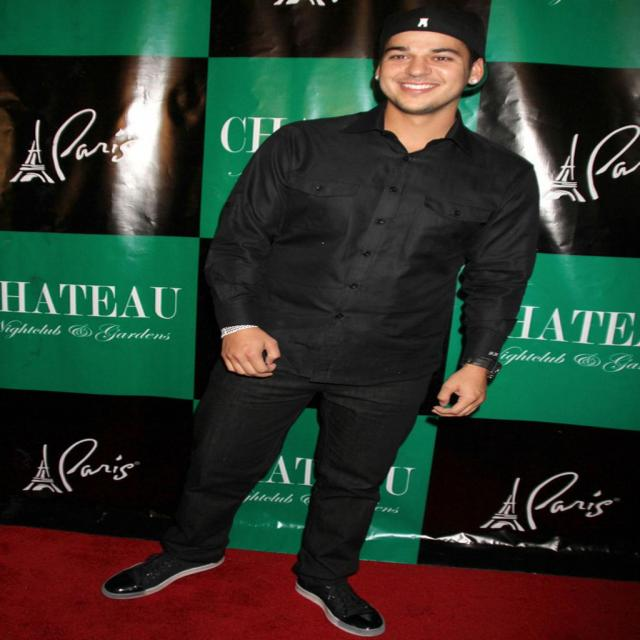nomask: (383, 37, 461, 114)
